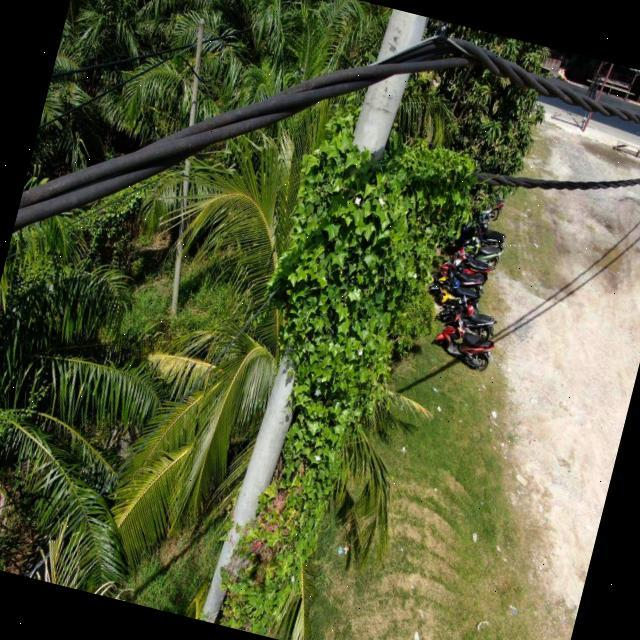critical vegetation: (184, 68, 509, 614)
